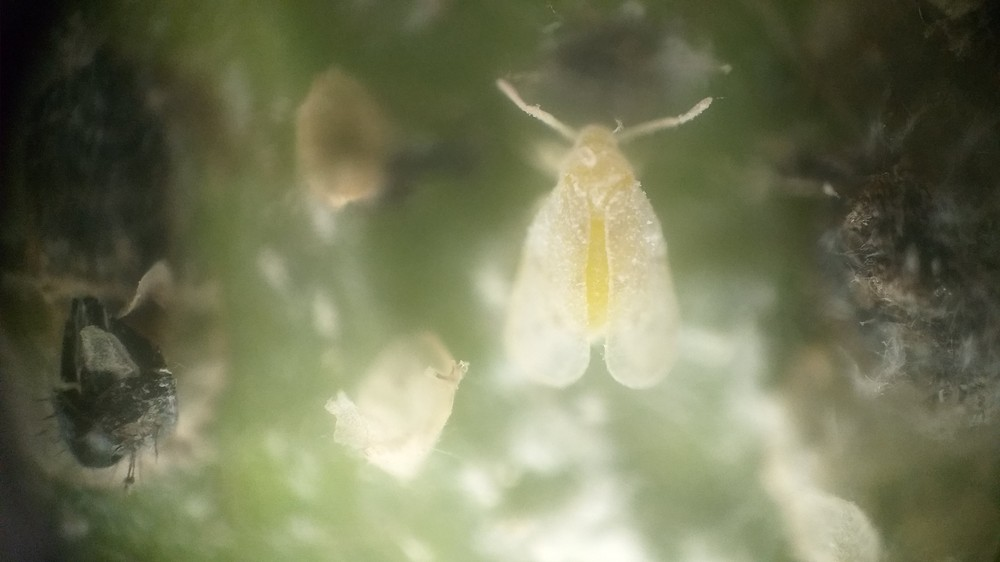Mosca Blanca: (444, 69, 757, 407)
